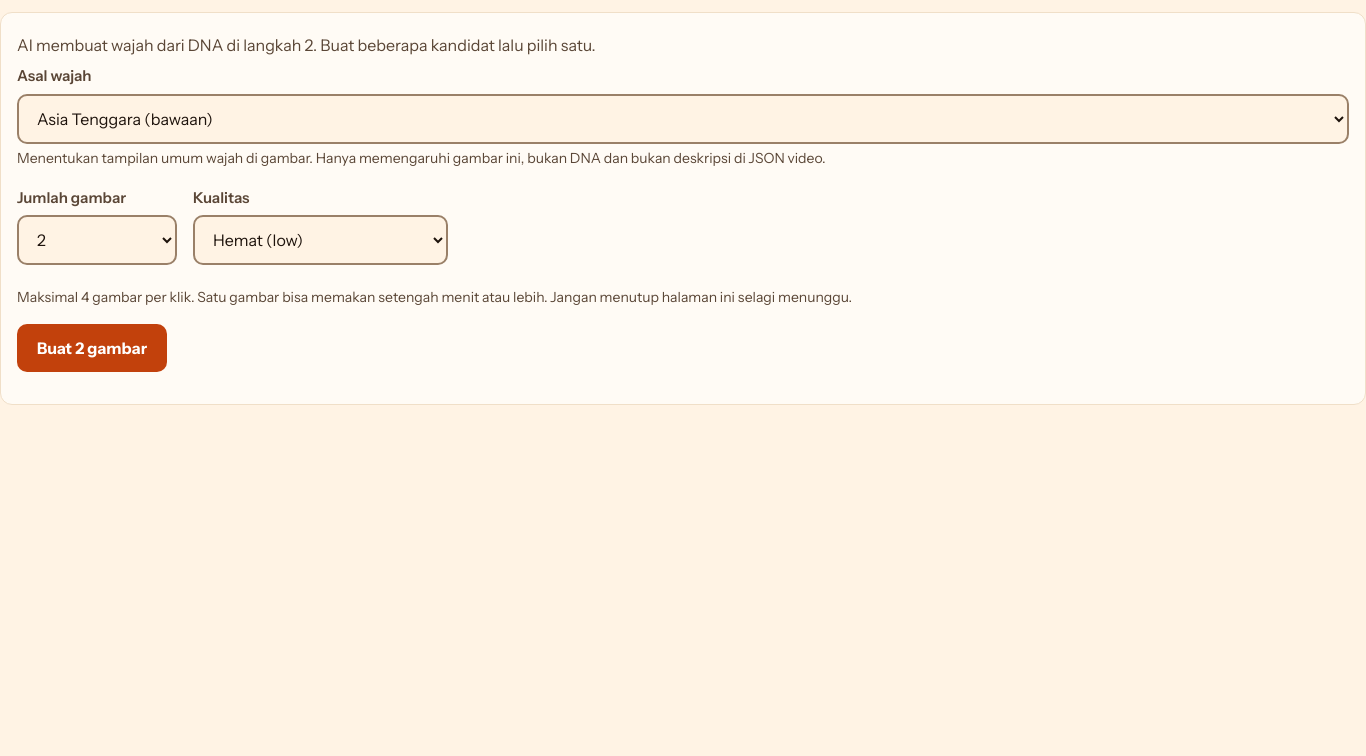
Test: PanelGenerate: wajah dari DNA › satu gambar gagal: pesan dari server tampil di kartunya, gambar lain tetap bisa dipakai
The image size is (1366, 756).
What coordinates should you click on to do the following:
click the button with test id "buat-gambar"
I would click on:
 (92, 348)
Its box is x1=17 y1=324 x2=167 y2=372.
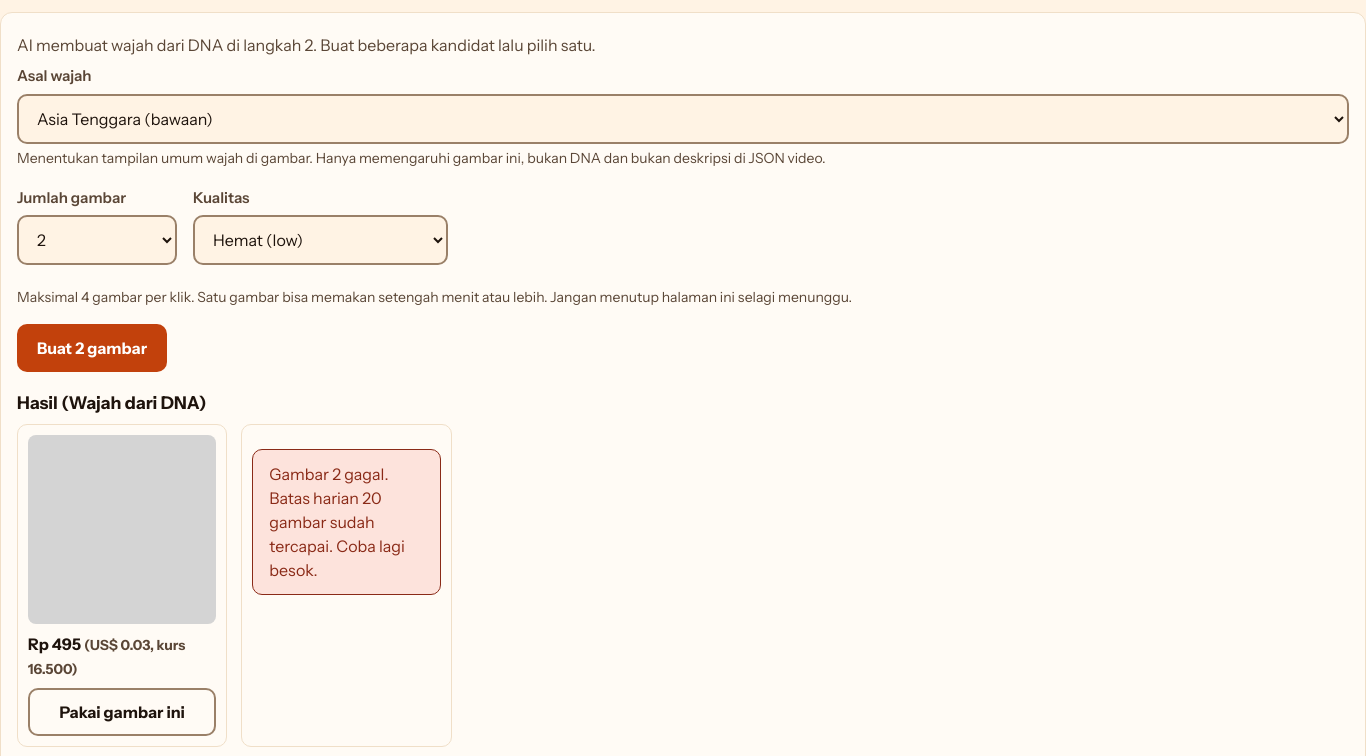
Check: the message shows "Gambar 2 gagal. Batas harian 20", box x1=252 y1=449 x2=441 y2=595
Check: the button "Pakai gambar ini" is enabled, box x1=28 y1=688 x2=216 y2=736
